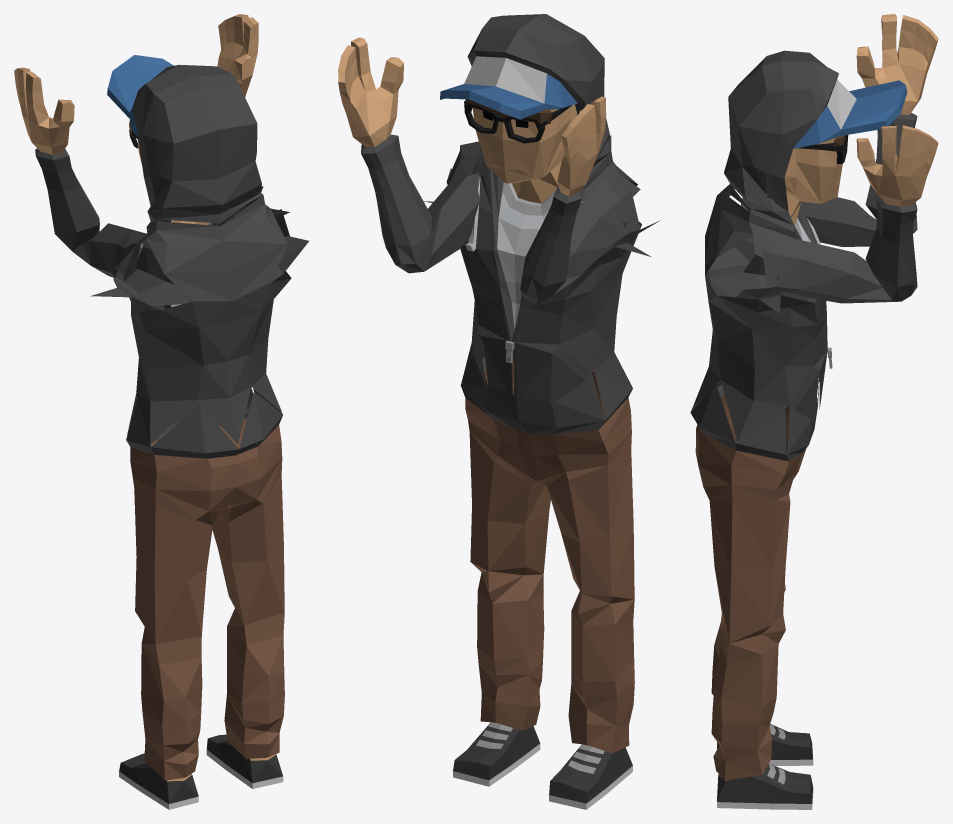
File: Demon_Son_01_fists.obj
The picture shows the model from 3 angles, left to right: view 1: azimuth 30°, elevation 25°; view 2: azimuth 150°, elevation 25°; view 3: azimuth 270°, elevation 25°; orthographic projection. The views are drawn at different scales.
Parts seen in each view (by area): view 1: Demon_Son_01_fists; view 2: Demon_Son_01_fists; view 3: Demon_Son_01_fists.
Part boxes in pixels (left/top/right/bottom): Demon_Son_01_fists: left=14, top=14, right=308, bottom=809; Demon_Son_01_fists: left=338, top=14, right=660, bottom=809; Demon_Son_01_fists: left=690, top=14, right=938, bottom=809.
Size of the model in its own units: 0.6295 by 1.84 by 0.5755.
Materials: 1 (1 with a texture image).
